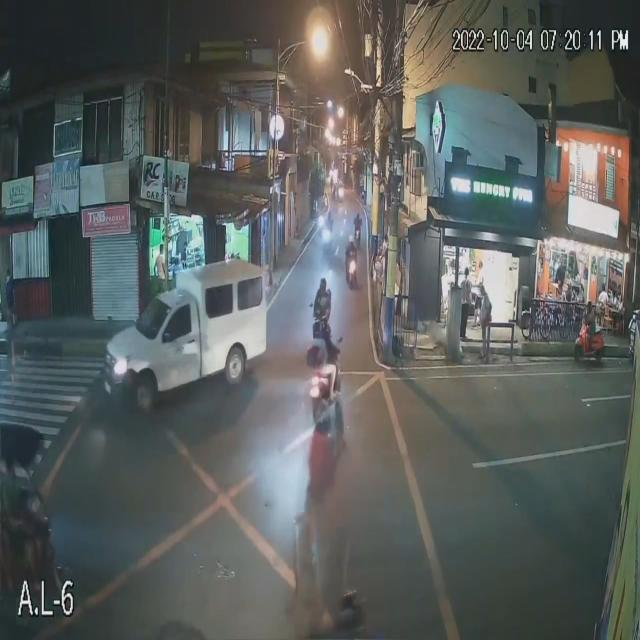Full-Faced: (318, 273, 330, 297), (348, 232, 354, 251)
